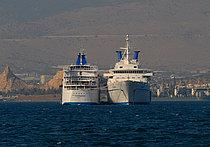Ship: (104, 33, 158, 111), (61, 46, 105, 110)
